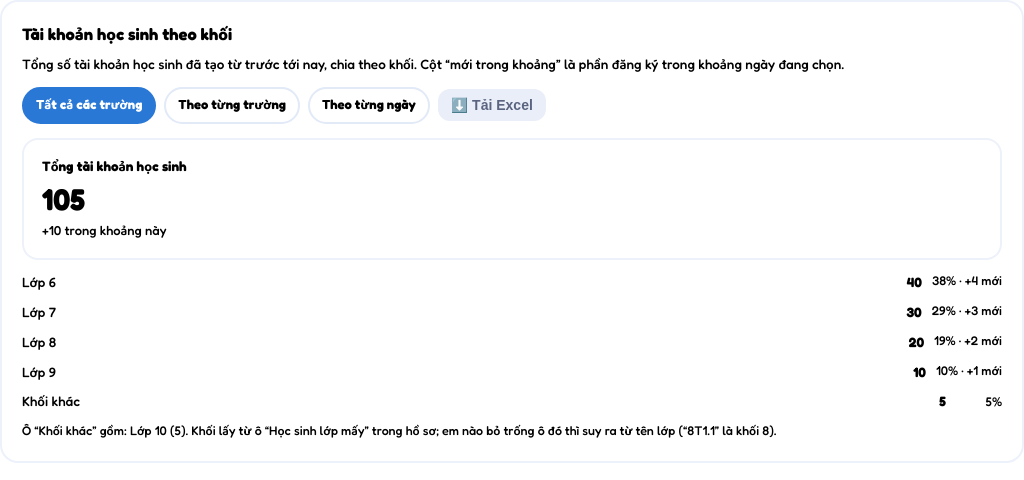
Tài khoản học sinh theo khối › theo từng trường: mỗi trường một dòng, đủ bốn khối
The image size is (1024, 480).
Click the button "Theo từng trường" at point(232, 105), box [164,87,300,124]
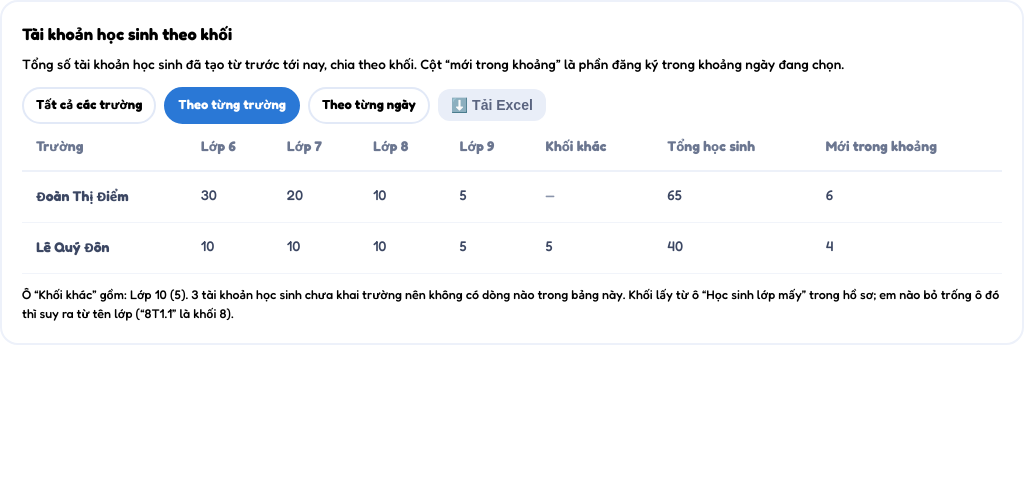
Expected: the text "3 tài khoản học sinh chưa khai trường" is shown, [22,287,999,321]
